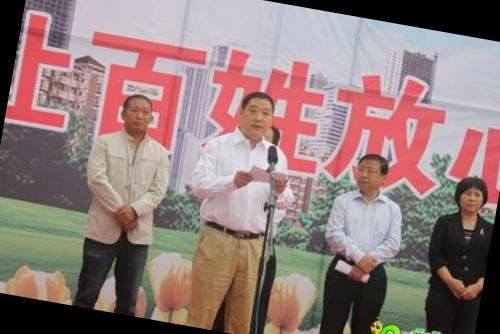no_helmet: (230, 86, 280, 140), (348, 144, 396, 198), (114, 92, 160, 138), (450, 170, 491, 219)
